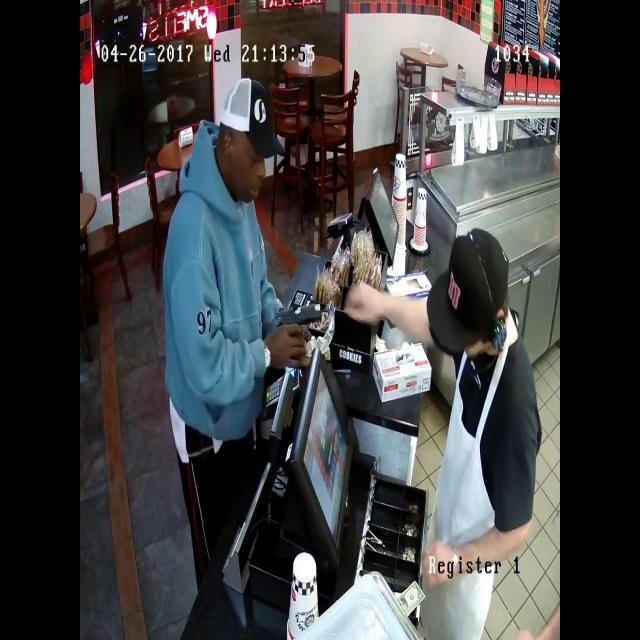weapon: (258, 292, 338, 366)
